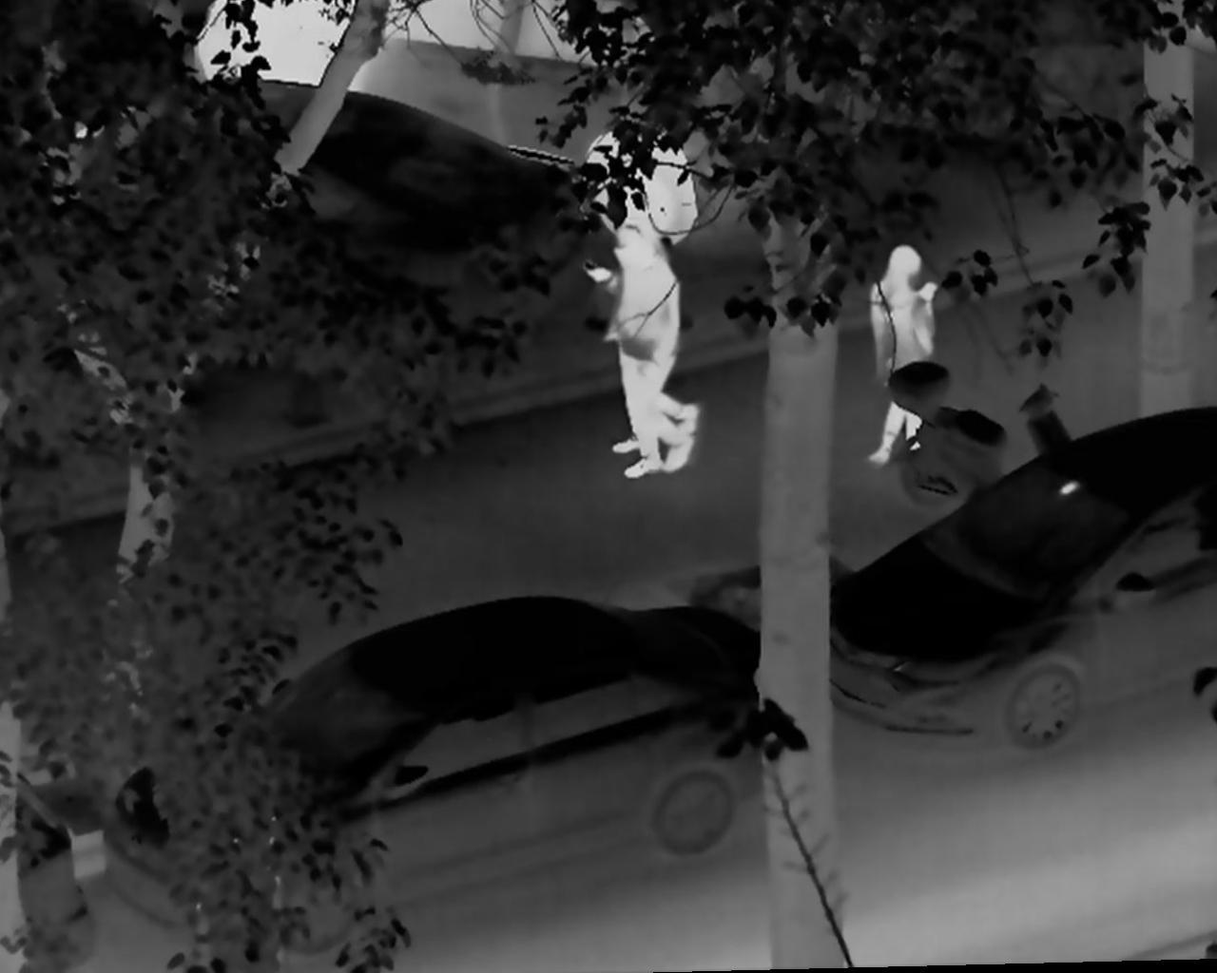person: (584, 200, 700, 460), (607, 224, 696, 478), (855, 240, 945, 474)
